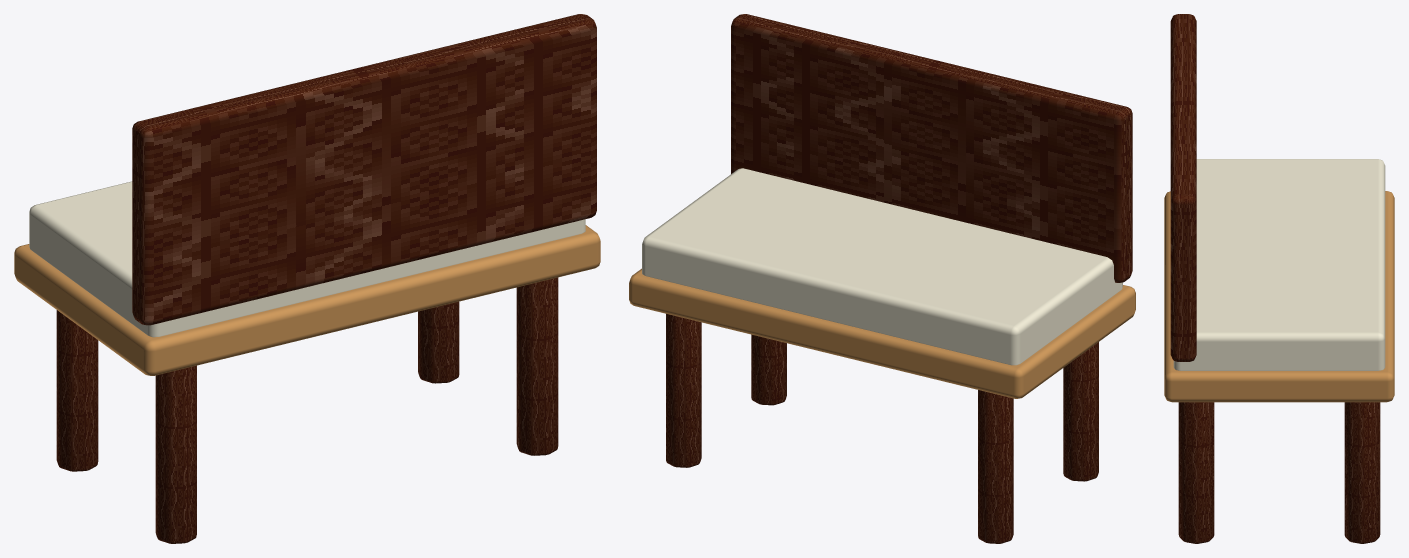
The model's file is bed.glb.
3 renders of one model, left to right at view 1: azimuth 30°, elevation 25°; view 2: azimuth 150°, elevation 25°; view 3: azimuth 270°, elevation 25°, orthographic. The views are drawn at different scales.
Visible parts, largest first — view 1: bed_wood, bed_top, bed_mattress; view 2: bed_wood, bed_mattress, bed_top; view 3: bed_mattress, bed_wood, bed_top.
Part boxes in pixels (x1,y1,x2,y2): bed_wood: [56, 14, 596, 543]; bed_top: [14, 225, 600, 375]; bed_mattress: [29, 181, 585, 337]; bed_wood: [666, 14, 1132, 543]; bed_mattress: [642, 168, 1122, 365]; bed_top: [629, 268, 1135, 398]; bed_mattress: [1173, 159, 1385, 370]; bed_wood: [1170, 14, 1380, 543]; bed_top: [1164, 191, 1394, 402].
Size of the model in its own units: 2.4 by 2.15 by 1.25.
3 materials, 1 textured.
